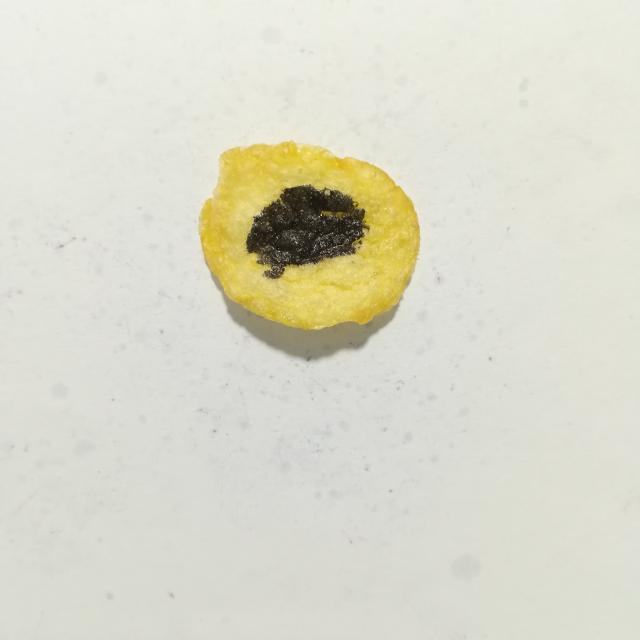chip: (199, 142, 419, 329)
damaged: (246, 185, 369, 279)
